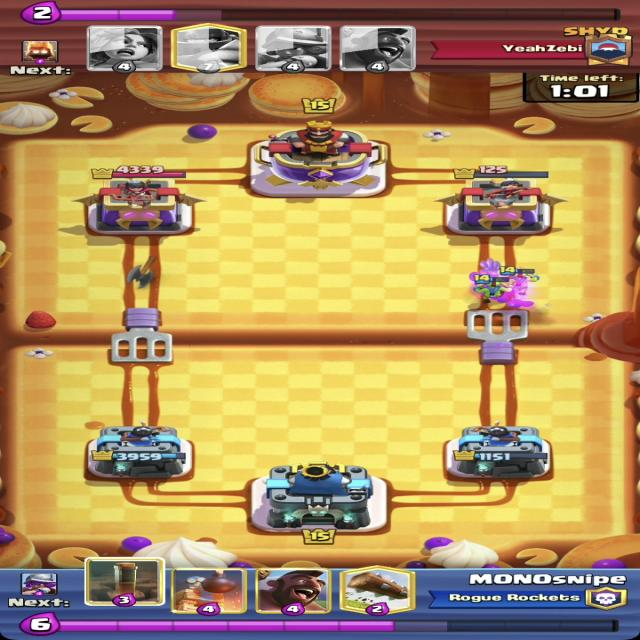Player-Goblin: (497, 266, 541, 295), (468, 274, 513, 300)
